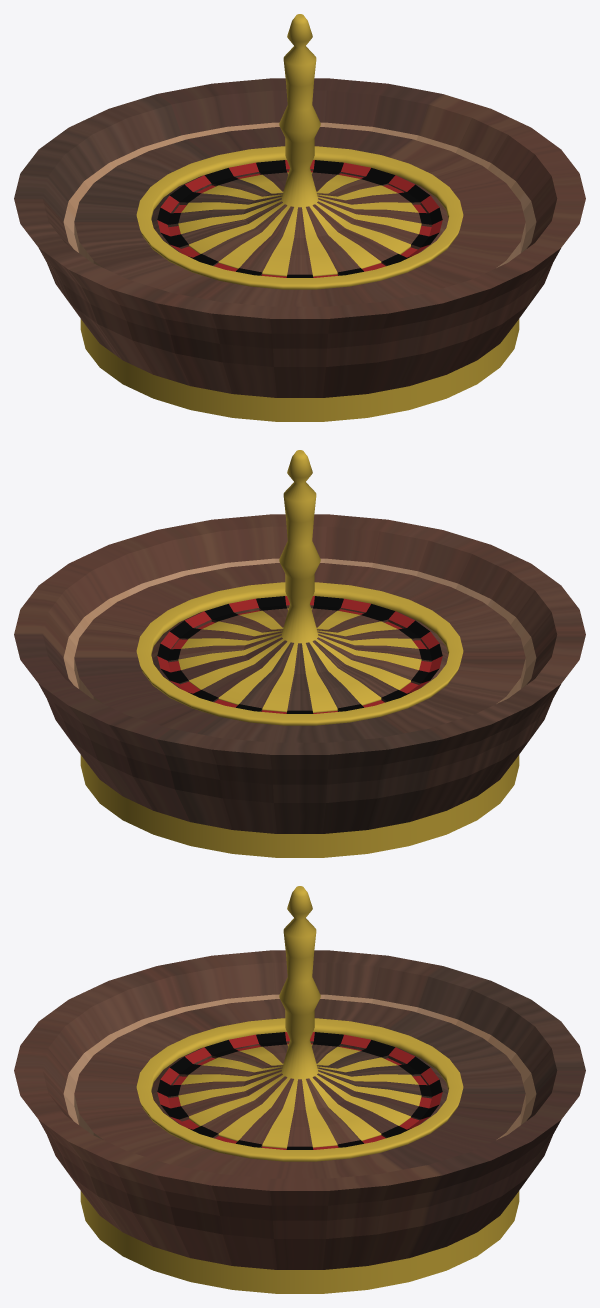
File: RouletteWheel.glb
The picture shows the model from 3 angles, top to bottom: view 1: azimuth 30°, elevation 25°; view 2: azimuth 150°, elevation 25°; view 3: azimuth 270°, elevation 25°; orthographic projection.
Parts seen in each view (by area): view 1: Cylinder; view 2: Cylinder; view 3: Cylinder.
Boxes of the visible parts, x1,y1,x2,y2 form: Cylinder: [14, 14, 585, 421]; Cylinder: [14, 450, 585, 857]; Cylinder: [14, 886, 585, 1293].
Bounding box in the file's own units: 4.12 × 2.51 × 4.14.
Materials: 5 (2 with a texture image).
